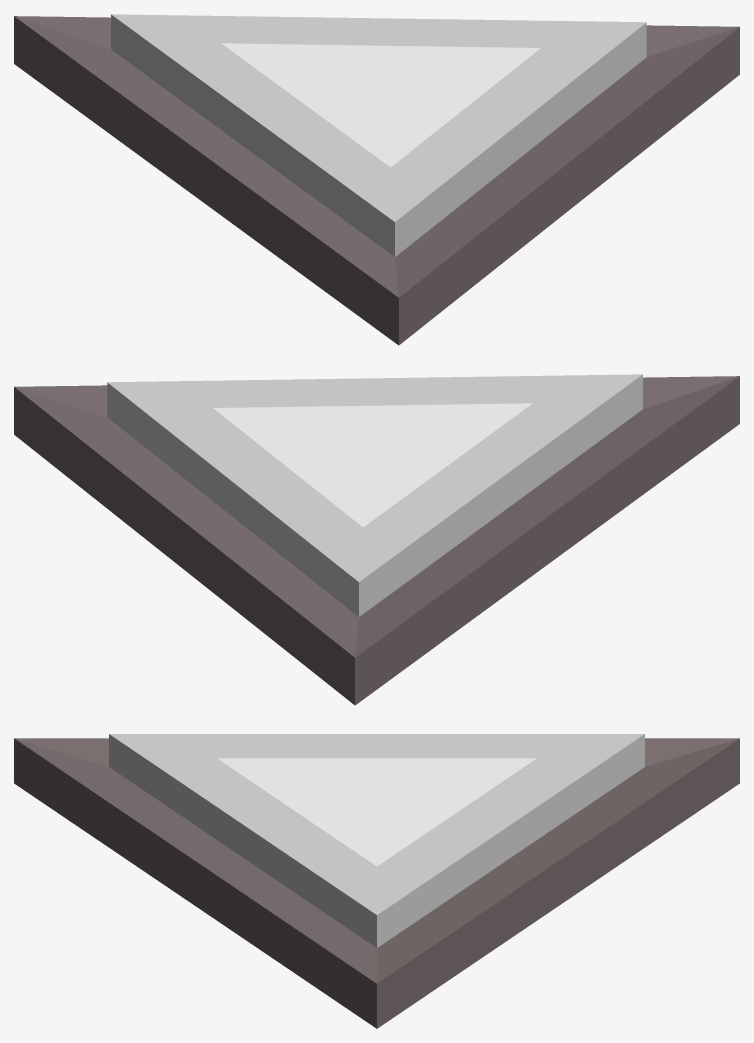
Rendered from PullOutBlock.fbx.
3 views of the same model, one above another, from view 1: azimuth 30°, elevation 25°; view 2: azimuth 150°, elevation 25°; view 3: azimuth 270°, elevation 25° (orthographic). The views are drawn at different scales.
Parts seen in each view (by area): view 1: Button, ButtonBase; view 2: Button, ButtonBase; view 3: Button, ButtonBase.
Boxes of the visible parts, bbox=[...] form: Button: bbox=[111, 14, 646, 256]; ButtonBase: bbox=[14, 16, 739, 345]; Button: bbox=[107, 374, 642, 616]; ButtonBase: bbox=[14, 376, 739, 705]; Button: bbox=[109, 734, 644, 947]; ButtonBase: bbox=[14, 738, 739, 1028].
Size of the model in its own units: 140 by 24.67 by 175.
